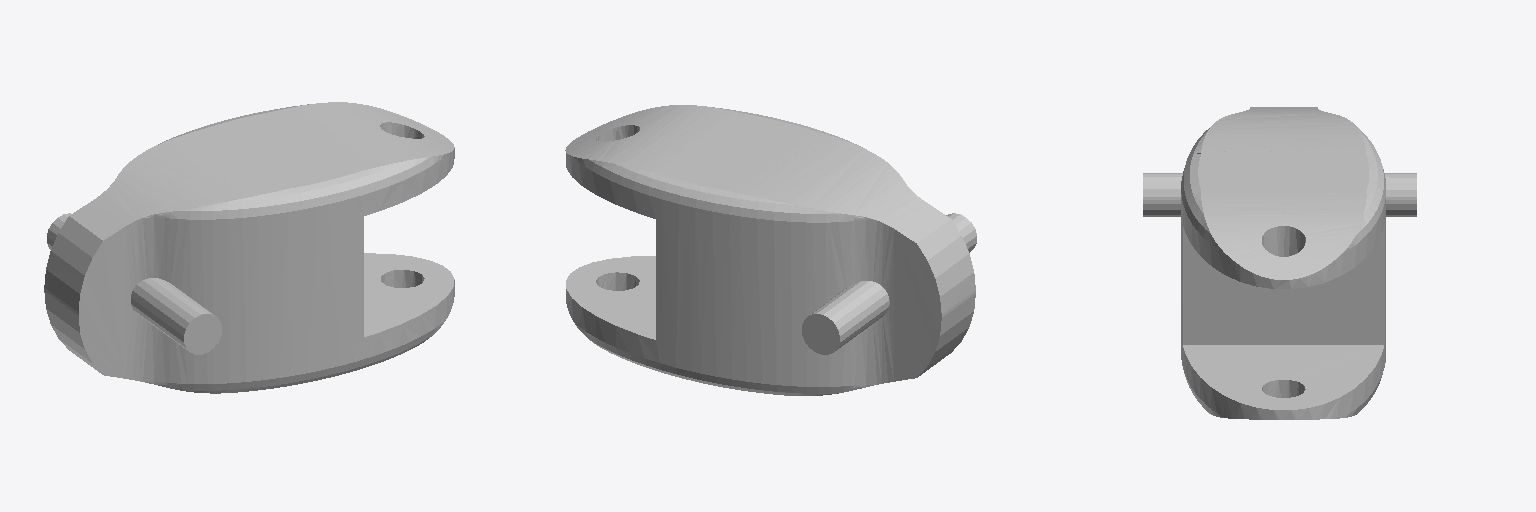
File: tool pitch link simple.OBJ
3 renders of one model, left to right at view 1: azimuth 30°, elevation 25°; view 2: azimuth 150°, elevation 25°; view 3: azimuth 270°, elevation 25°, orthographic.
Visible parts, largest first — view 1: /ambf/env/psm2/tool_pitch_link_simple; view 2: /ambf/env/psm2/tool_pitch_link_simple; view 3: /ambf/env/psm2/tool_pitch_link_simple.
Part boxes in pixels (x1,y1,x2,y2): /ambf/env/psm2/tool_pitch_link_simple: (44, 102, 454, 393); /ambf/env/psm2/tool_pitch_link_simple: (565, 105, 976, 395); /ambf/env/psm2/tool_pitch_link_simple: (1143, 107, 1416, 419).
Bounding box in the file's own units: 0.013 × 0.0063 × 0.008.